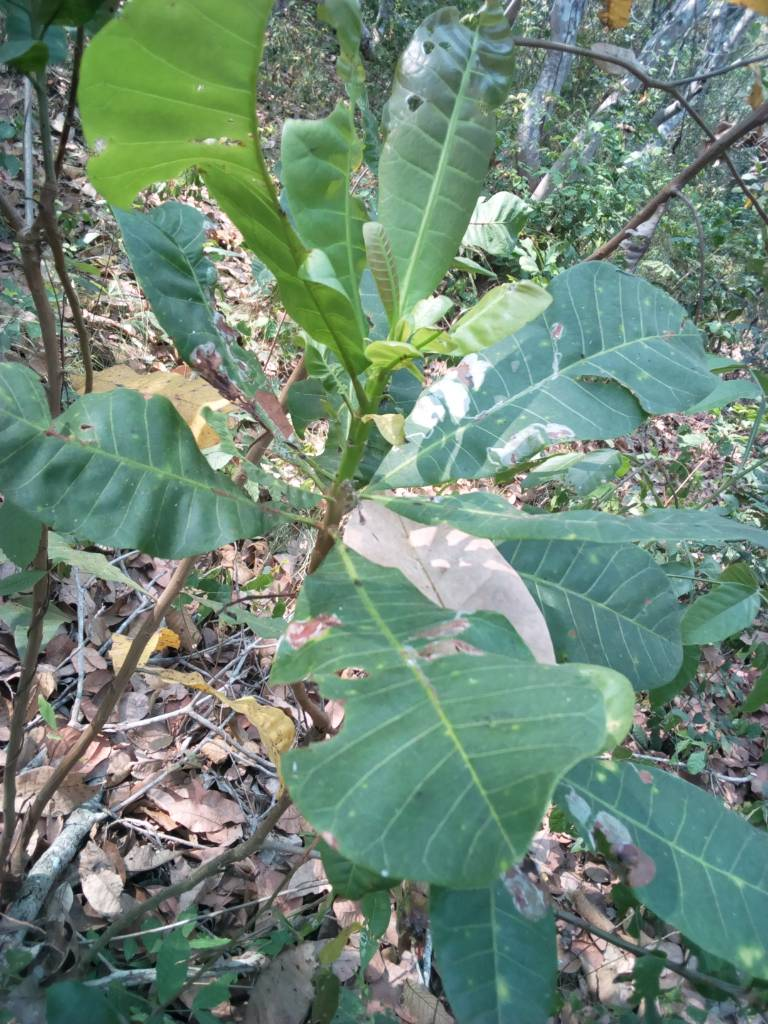Anoplonemis curvipes: (254, 535, 619, 908)
